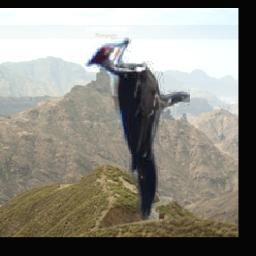Woodpecker: (85, 38, 190, 218)
